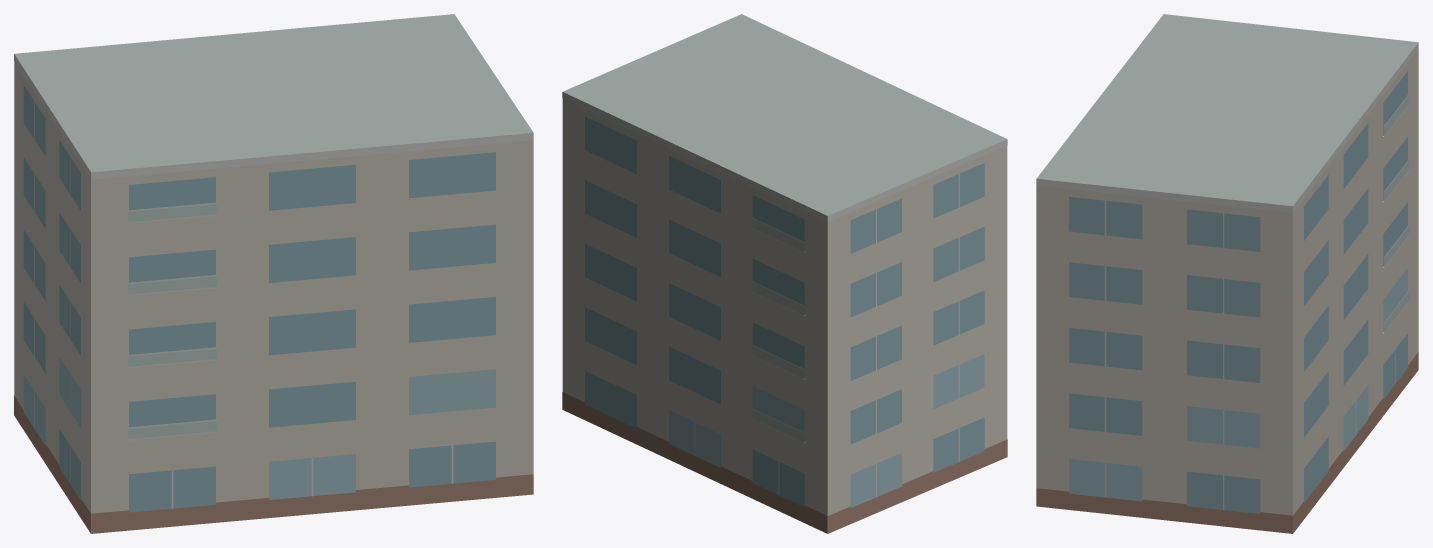
The model's file is survey-upis-32672559.glb.
3 renders of one model, left to right at view 1: azimuth 30°, elevation 25°; view 2: azimuth 150°, elevation 25°; view 3: azimuth 270°, elevation 25°, orthographic. The views are drawn at different scales.
Visible parts, largest first — view 1: survey-upis-32672559.tmp; view 2: survey-upis-32672559.tmp; view 3: survey-upis-32672559.tmp.
Boxes of the visible parts, x1,y1,x2,y2 form: survey-upis-32672559.tmp: [14, 14, 533, 533]; survey-upis-32672559.tmp: [562, 14, 1007, 533]; survey-upis-32672559.tmp: [1036, 14, 1418, 533].
Bounding box in the file's own units: 15.23 × 12.1 × 12.8.
